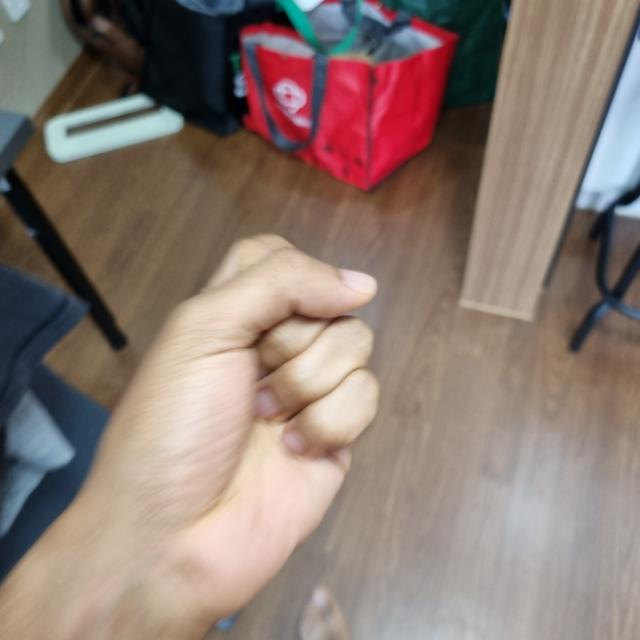Rock: (78, 247, 371, 612)
